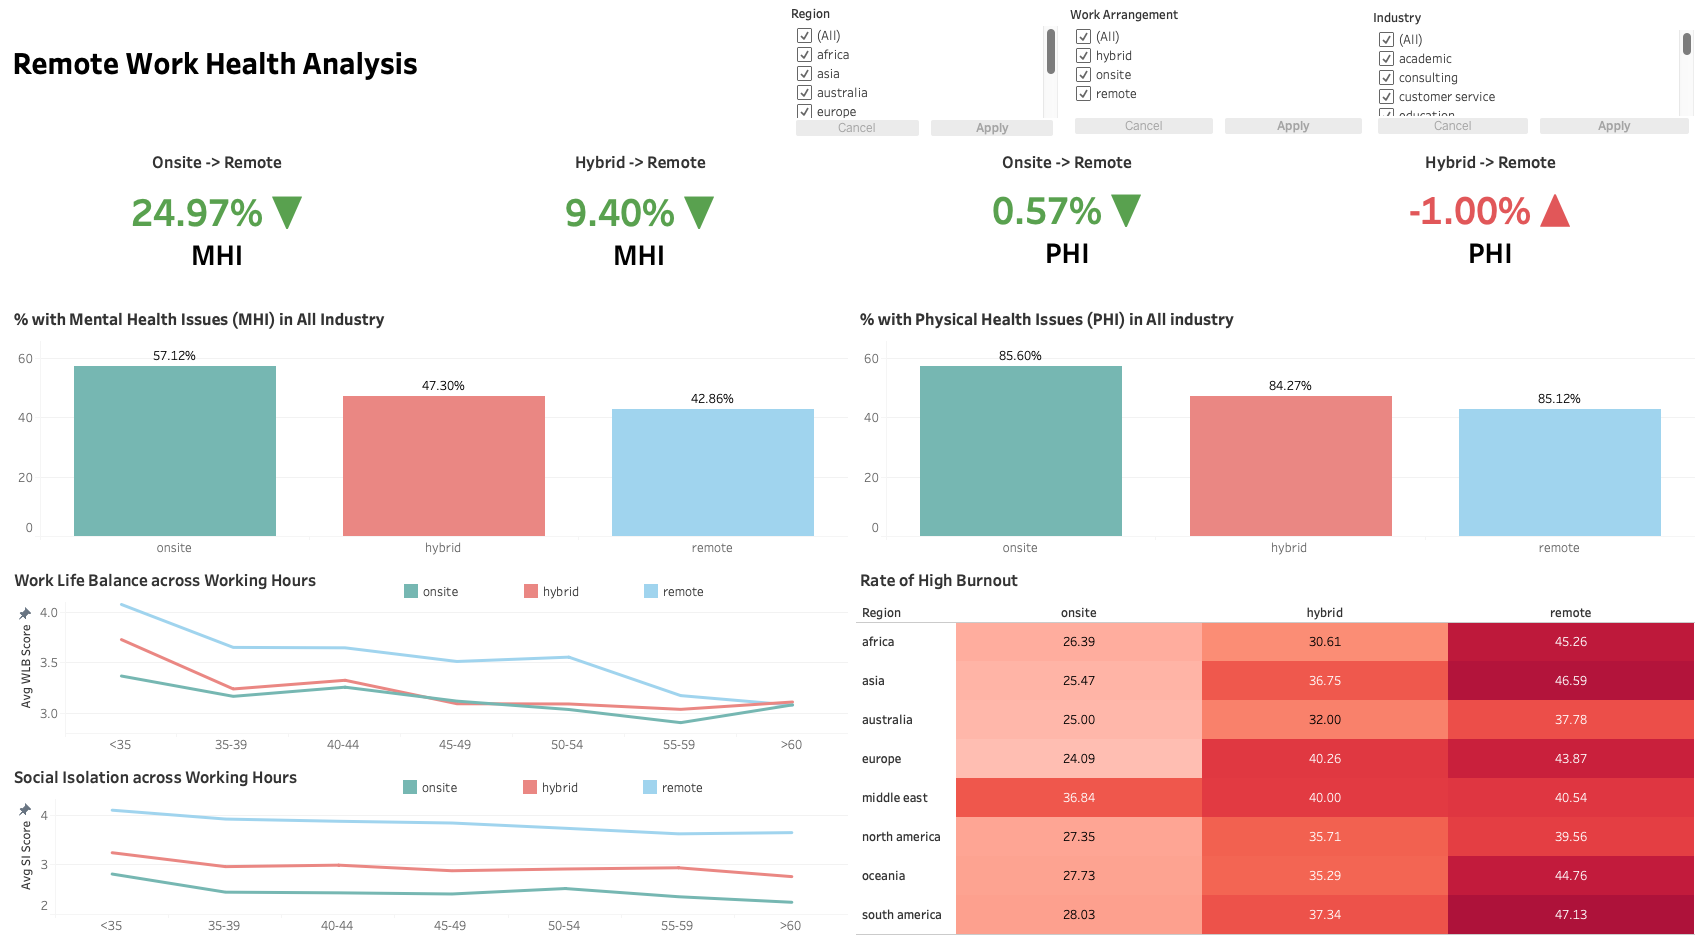

What the dashboard file says about the page in this screenshot:
{"tool":"tableau","page":{"name":"Dashboard for Health Analysis","canvas":[1000,1000],"units":"permille","ordinal":0},"visuals":[{"type":"filter","title":"Heatmap for Burnout Level ","param":"[federated.1nygc9309i7a6m1ebcwix0zg3ooc].[none:Region:nk]","box":[464.1,6.5,156.5,140.8]},{"type":"filter","title":"Bar Chart for Mental Health %","param":"[federated.1nygc9309i7a6m1ebcwix0zg3ooc].[none:Work_Arrangement:nk]","box":[627.2,7.8,173.9,138.2]},{"type":"text","box":[8.7,10.3,982.6,142.1]},{"type":"filter","title":"Bar Chart for Mental Health %","param":"[federated.1nygc9309i7a6m1ebcwix0zg3ooc].[none:Industry:nk]","box":[804.9,10.3,179.4,131.8]},{"type":"worksheet","title":"Onsite -> Remote Mental","mark":"Square","box":[8.7,163.4,245.6,169.9]},{"type":"worksheet","title":"Hybrid -> Remote Mental","mark":"Square","box":[254.3,163.4,245.7,169.9]},{"type":"worksheet","title":"Onsite -> Remote Physical","mark":"Automatic","box":[500,163.4,250.1,169.9]},{"type":"worksheet","title":"Hybrid -> Remote Physical","mark":"Automatic","box":[750.1,163.4,241.2,169.9]},{"type":"worksheet","title":"Bar Chart for Mental Health %","mark":"Automatic","rows":["Calculation_3500070997612695552"],"cols":["Work_Arrangement"],"box":[8.7,333.3,491.2,328.2]},{"type":"worksheet","title":"Bar Chart for Physical Health %","mark":"Automatic","rows":["Calculation_3500070997612695552"],"cols":["Work_Arrangement"],"box":[499.9,333.3,491.4,328.2]},{"type":"worksheet","title":"Social Isolation across Working Hours","mark":"Line","rows":["Social_Isolation_Score"],"cols":["Calculation_3500070997622321155"],"box":[8.7,661.5,491.2,164.1]},{"type":"worksheet","title":"Heatmap for Burnout Level ","mark":"Square","rows":["Region"],"cols":["Work_Arrangement"],"box":[499.9,661.5,491.4,328.2]},{"type":"worksheet","title":"Work Life Balance across Working Hours","mark":"Line","rows":["Work_Life_Balance_Score"],"cols":["Calculation_3500070997622321155"],"box":[8.7,825.6,491.2,164.1]}]}

Visuals, with their boxes on the dashboard's canvas, which has no fixed pixel size, in thousandths of its width and height (x1, y1, x2, y2). These are canvas units, not pixel positions in the 1697x941 screenshot, which may show the page scaled, cropped or inside an application window:
"Heatmap for Burnout Level " filter: (left=464, top=6, right=621, bottom=147)
"Bar Chart for Mental Health %" filter: (left=627, top=8, right=801, bottom=146)
text: (left=9, top=10, right=991, bottom=152)
"Bar Chart for Mental Health %" filter: (left=805, top=10, right=984, bottom=142)
"Onsite -> Remote Mental" worksheet (Square marks): (left=9, top=163, right=254, bottom=333)
"Hybrid -> Remote Mental" worksheet (Square marks): (left=254, top=163, right=500, bottom=333)
"Onsite -> Remote Physical" worksheet: (left=500, top=163, right=750, bottom=333)
"Hybrid -> Remote Physical" worksheet: (left=750, top=163, right=991, bottom=333)
"Bar Chart for Mental Health %" worksheet: (left=9, top=333, right=500, bottom=662)
"Bar Chart for Physical Health %" worksheet: (left=500, top=333, right=991, bottom=662)
"Social Isolation across Working Hours" worksheet (Line marks): (left=9, top=662, right=500, bottom=826)
"Heatmap for Burnout Level " worksheet (Square marks): (left=500, top=662, right=991, bottom=990)
"Work Life Balance across Working Hours" worksheet (Line marks): (left=9, top=826, right=500, bottom=990)
